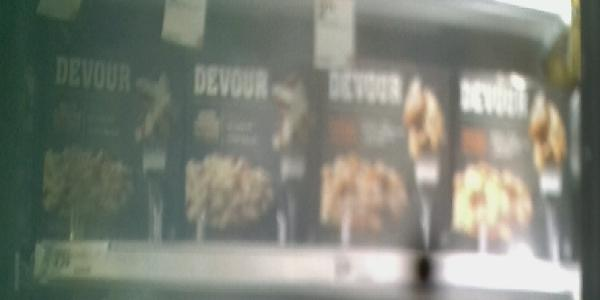pizza1: (36, 38, 180, 244), (313, 60, 448, 248), (449, 63, 577, 259), (182, 57, 313, 242)
